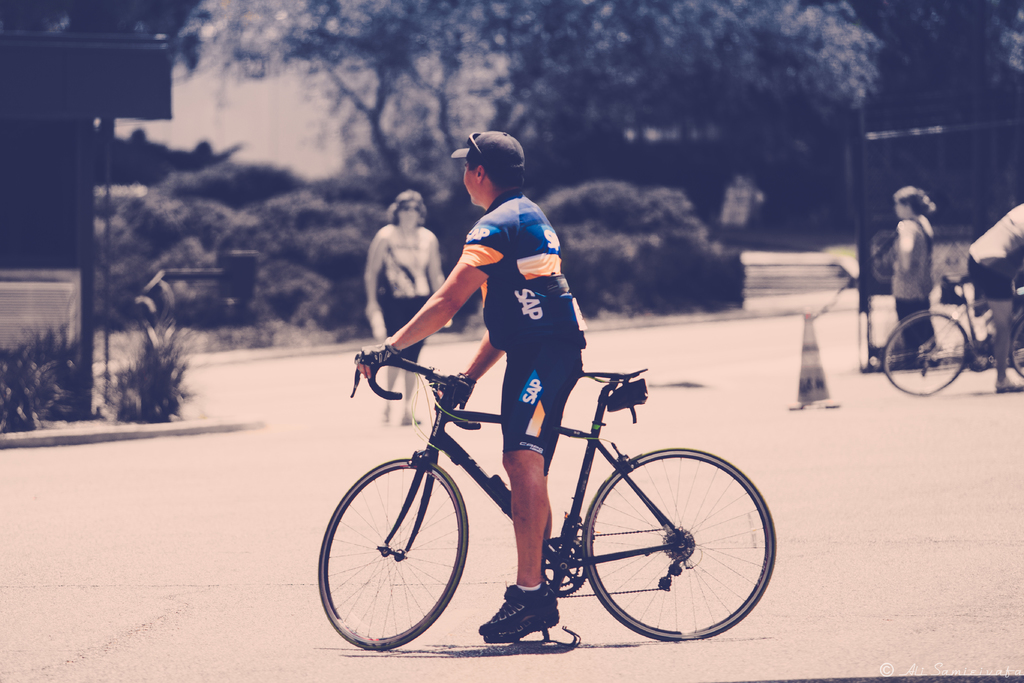Bike_toward: (325, 347, 795, 664)
